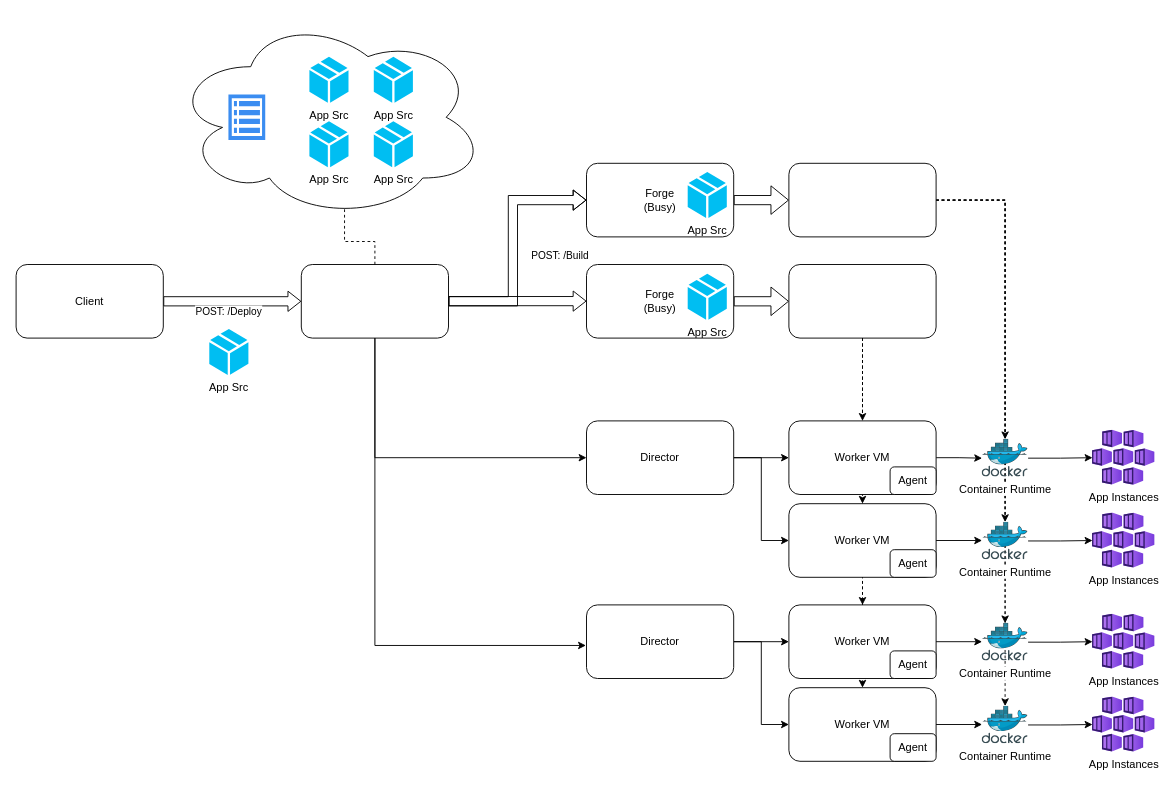
Image size: 1175x788. Some labels were removed from this diagram. The shapes that lost their labels are listed below. From the top down, each one's centre as x and y in pixels, then its label:
(x=246, y=117): Job List
(x=862, y=199): Container Image Registry
(x=374, y=301): Orchestrator
(x=862, y=301): Helix Registry
